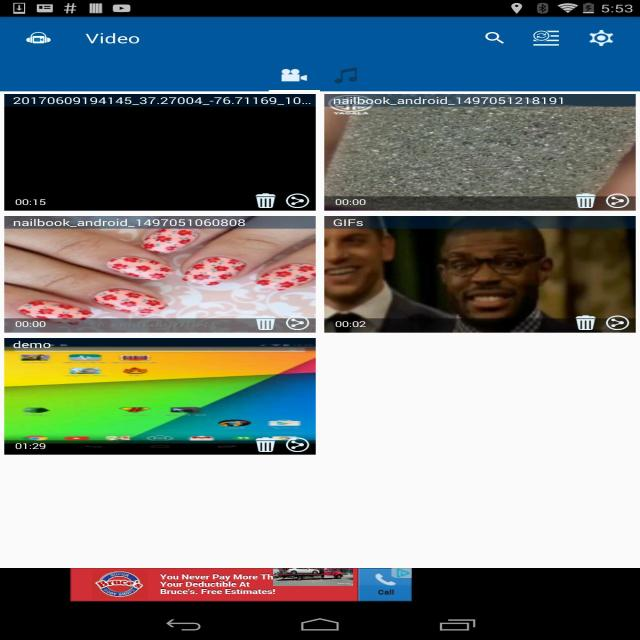button: (324, 93, 638, 210), (325, 216, 637, 333), (4, 93, 315, 210), (3, 338, 316, 454), (323, 94, 635, 210), (4, 217, 315, 332), (321, 57, 366, 91), (271, 57, 317, 90), (524, 26, 565, 50), (579, 26, 620, 50), (475, 26, 511, 50), (285, 434, 310, 454), (250, 435, 277, 453), (605, 192, 632, 210), (605, 311, 629, 331), (252, 314, 278, 332), (285, 190, 308, 209), (253, 191, 277, 209), (287, 313, 311, 331), (574, 313, 596, 332), (574, 192, 595, 210)
iframe: (69, 567, 412, 602)
image: (7, 338, 314, 454), (7, 95, 316, 210), (6, 217, 315, 332), (326, 217, 637, 331), (325, 96, 635, 210), (22, 26, 54, 48)
text: (11, 94, 312, 106), (10, 218, 248, 228), (331, 95, 566, 105), (10, 441, 50, 451), (10, 341, 53, 350), (14, 317, 49, 327), (10, 197, 48, 206), (333, 197, 369, 206), (333, 320, 369, 328)
